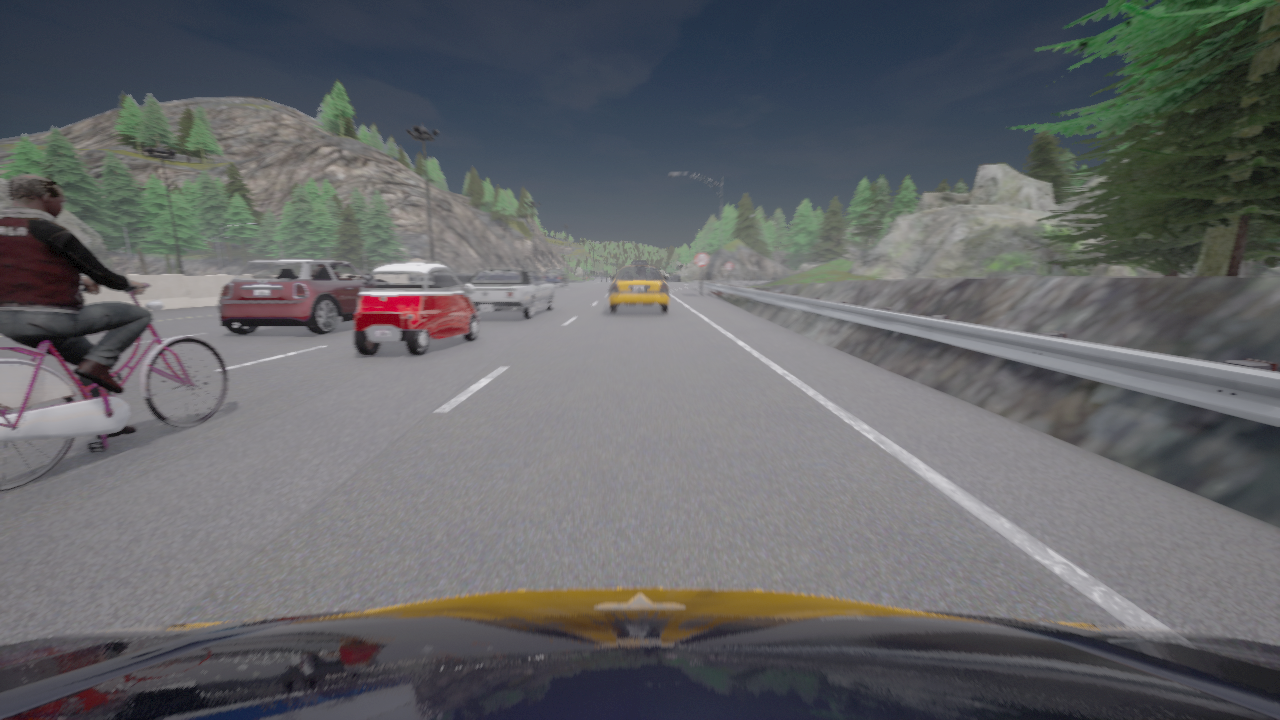cyclist: (0, 588, 1279, 719), (0, 283, 227, 491), (354, 262, 478, 356), (219, 259, 370, 334), (465, 269, 555, 319), (609, 261, 668, 312), (543, 269, 567, 287)
